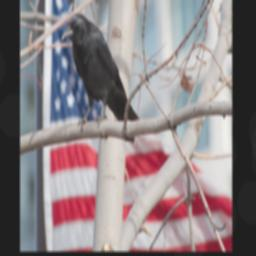Crow: (61, 11, 142, 137)
